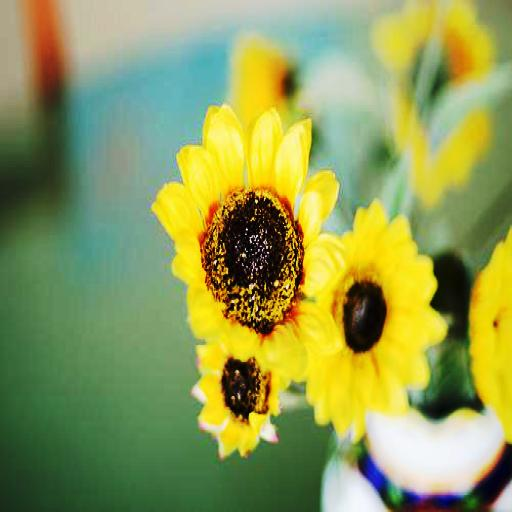sunflower: (156, 98, 343, 384), (308, 204, 444, 432), (192, 336, 282, 454), (467, 230, 512, 440)
